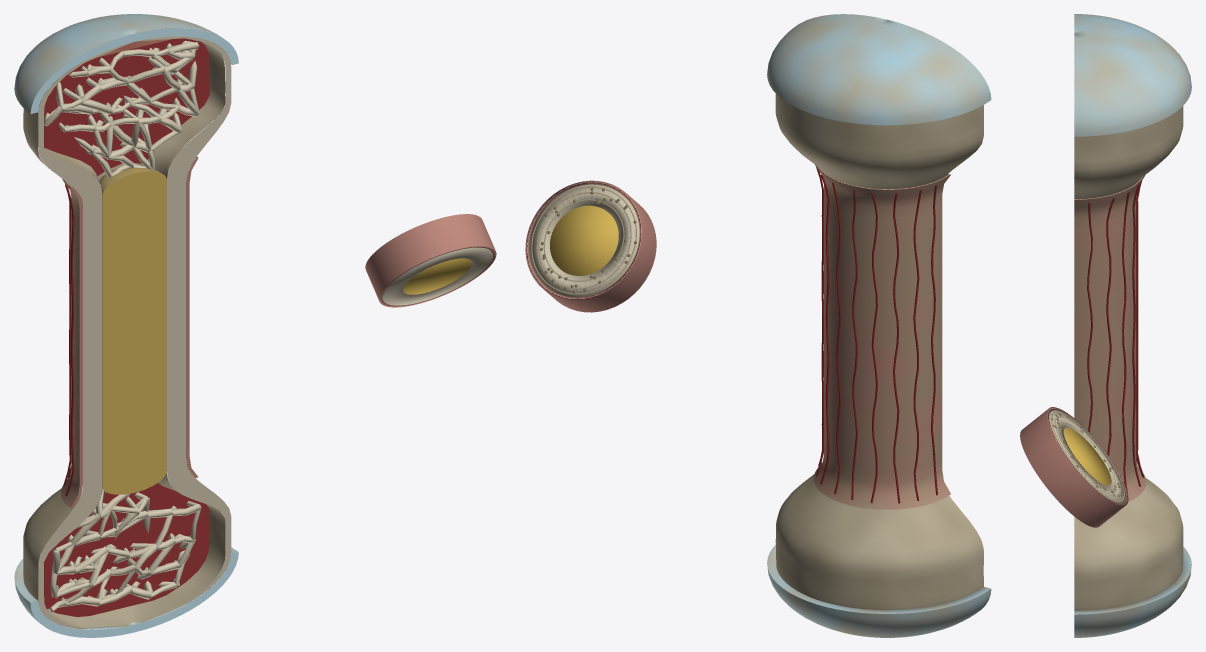
File: medicine_bone_section.glb
3 renders of one model, left to right at view 1: azimuth 30°, elevation 25°; view 2: azimuth 150°, elevation 25°; view 3: azimuth 270°, elevation 25°, orthographic. The views are drawn at different scales.
Visible parts, largest first — view 1: compact_geo, medullary_geo, spongy_geo, red_marrow_geo, periosteum_geo, cartilage_geo; view 2: periosteum_geo, compact_geo, cartilage_geo, medullary_geo; view 3: periosteum_geo, compact_geo, cartilage_geo, medullary_geo.
Boxes of the visible parts, left/top/right/bottom form: compact_geo: left=23, top=28, right=492, bottom=629; medullary_geo: left=99, top=168, right=471, bottom=494; spongy_geo: left=44, top=40, right=201, bottom=612; red_marrow_geo: left=38, top=29, right=209, bottom=616; periosteum_geo: left=61, top=151, right=496, bottom=508; cartilage_geo: left=14, top=14, right=238, bottom=637; periosteum_geo: left=525, top=165, right=950, bottom=509; compact_geo: left=529, top=93, right=983, bottom=610; cartilage_geo: left=767, top=14, right=991, bottom=637; medullary_geo: left=550, top=205, right=618, bottom=275; periosteum_geo: left=1020, top=175, right=1146, bottom=527; compact_geo: left=1049, top=106, right=1183, bottom=610; cartilage_geo: left=1074, top=14, right=1191, bottom=637; medullary_geo: left=1063, top=427, right=1111, bottom=485.
Bounding box in the file's own units: 1.01 × 1.27 × 0.3391.
